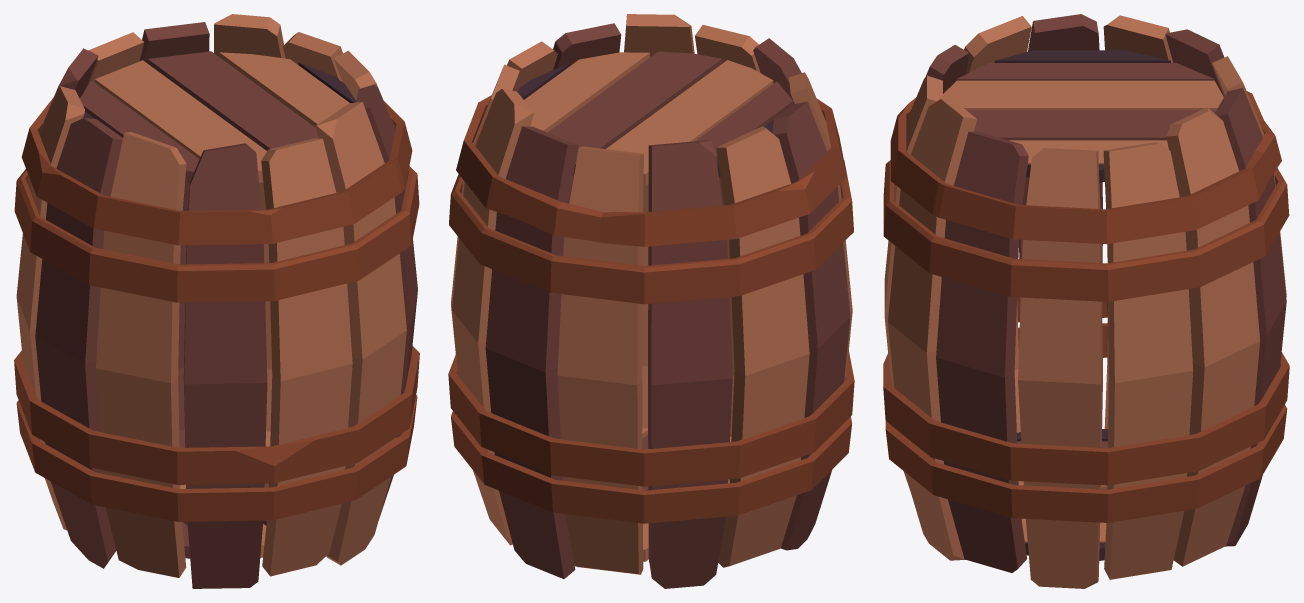
File: Barrel 1_2b.fbx
3 views of the same model, side by side, from view 1: azimuth 30°, elevation 25°; view 2: azimuth 150°, elevation 25°; view 3: azimuth 270°, elevation 25° (orthographic).
Parts seen in each view (by area): view 1: Barrel 1_2b.015, Barrel 1_2b.005, Barrel 1_2b.006, Barrel 1_2b Lid, Barrel 1_2b, Barrel 1_2b.013, Barrel 1_2b.001, Barrel 1_2b.002, Barrel 1_2b.016, Barrel 1_2b.003, Barrel 1_2b.012, Barrel 1_2b.009 (+7 smaller); view 2: Barrel 1_2b.004, Barrel 1_2b.011, Barrel 1_2b Lid, Barrel 1_2b.012, Barrel 1_2b.010, Barrel 1_2b, Barrel 1_2b.001, Barrel 1_2b.002, Barrel 1_2b.003, Barrel 1_2b.013, Barrel 1_2b.009, Barrel 1_2b.016 (+6 smaller); view 3: Barrel 1_2b.014, Barrel 1_2b.008, Barrel 1_2b Lid, Barrel 1_2b.007, Barrel 1_2b.009, Barrel 1_2b, Barrel 1_2b.001, Barrel 1_2b.002, Barrel 1_2b.003, Barrel 1_2b.016, Barrel 1_2b.010, Barrel 1_2b.005 (+7 smaller).
Part boxes in pixels (bbox=[...]): Barrel 1_2b.015: bbox=[183, 143, 267, 588]; Barrel 1_2b.005: bbox=[96, 132, 186, 577]; Barrel 1_2b.006: bbox=[261, 138, 352, 576]; Barrel 1_2b Lid: bbox=[80, 51, 356, 183]; Barrel 1_2b: bbox=[14, 166, 419, 302]; Barrel 1_2b.013: bbox=[35, 118, 122, 568]; Barrel 1_2b.001: bbox=[14, 346, 419, 484]; Barrel 1_2b.002: bbox=[21, 97, 412, 245]; Barrel 1_2b.016: bbox=[315, 102, 406, 565]; Barrel 1_2b.003: bbox=[16, 395, 417, 521]; Barrel 1_2b.012: bbox=[16, 86, 84, 530]; Barrel 1_2b.009: bbox=[214, 14, 285, 431]; Barrel 1_2b.004: bbox=[648, 140, 732, 588]; Barrel 1_2b.011: bbox=[557, 146, 643, 574]; Barrel 1_2b Lid: bbox=[517, 51, 793, 185]; Barrel 1_2b.012: bbox=[716, 126, 809, 567]; Barrel 1_2b.010: bbox=[485, 126, 578, 578]; Barrel 1_2b: bbox=[449, 160, 853, 304]; Barrel 1_2b.001: bbox=[448, 351, 854, 486]; Barrel 1_2b.002: bbox=[456, 95, 846, 246]; Barrel 1_2b.003: bbox=[451, 411, 852, 523]; Barrel 1_2b.013: bbox=[772, 101, 850, 550]; Barrel 1_2b.009: bbox=[452, 88, 534, 545]; Barrel 1_2b.016: bbox=[624, 14, 694, 428]; Barrel 1_2b.014: bbox=[1018, 148, 1102, 588]; Barrel 1_2b.008: bbox=[1103, 142, 1193, 579]; Barrel 1_2b Lid: bbox=[943, 50, 1223, 182]; Barrel 1_2b.007: bbox=[936, 131, 1028, 572]; Barrel 1_2b.009: bbox=[1166, 107, 1259, 566]; Barrel 1_2b: bbox=[883, 160, 1289, 301]; Barrel 1_2b.001: bbox=[883, 297, 1289, 485]; Barrel 1_2b.002: bbox=[890, 91, 1281, 244]; Barrel 1_2b.003: bbox=[885, 323, 1287, 522]; Barrel 1_2b.016: bbox=[888, 95, 977, 560]; Barrel 1_2b.010: bbox=[1214, 88, 1286, 546]; Barrel 1_2b.005: bbox=[964, 16, 1031, 432].
Size of the model in its own units: 96.04 by 116 by 95.34.
